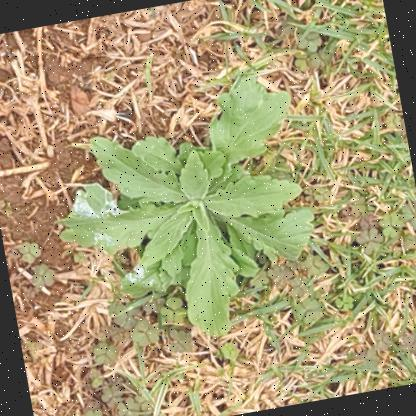Weeds: (38, 77, 331, 361)
